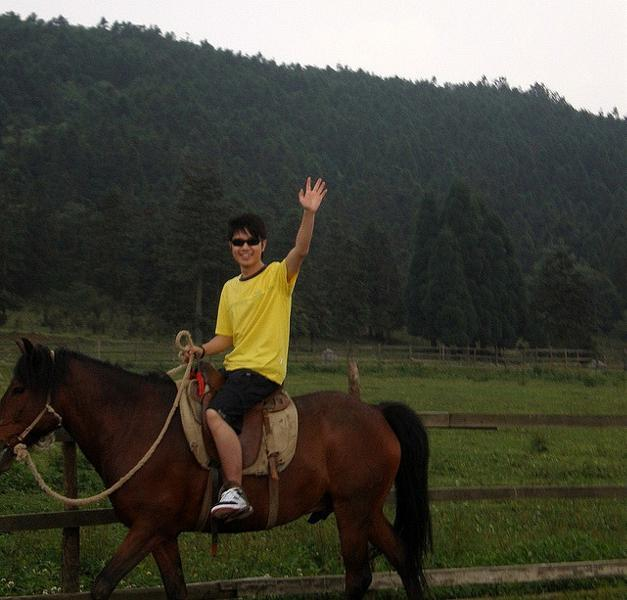person: (179, 173, 328, 525)
